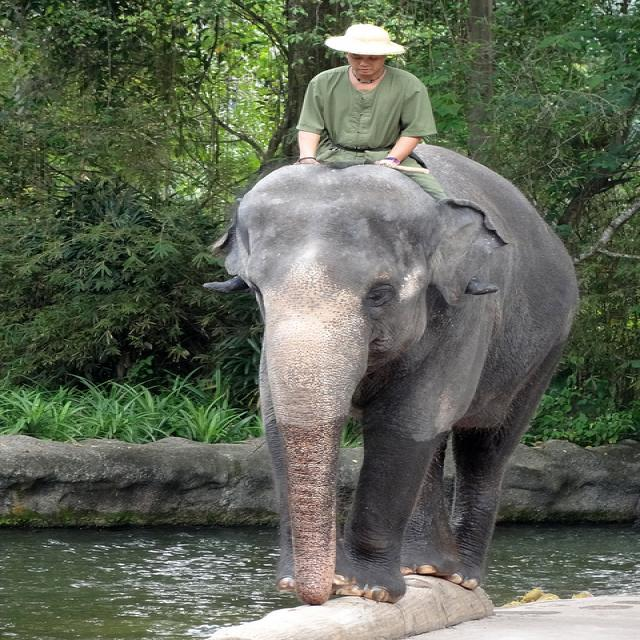Elephant: (201, 141, 580, 605)
